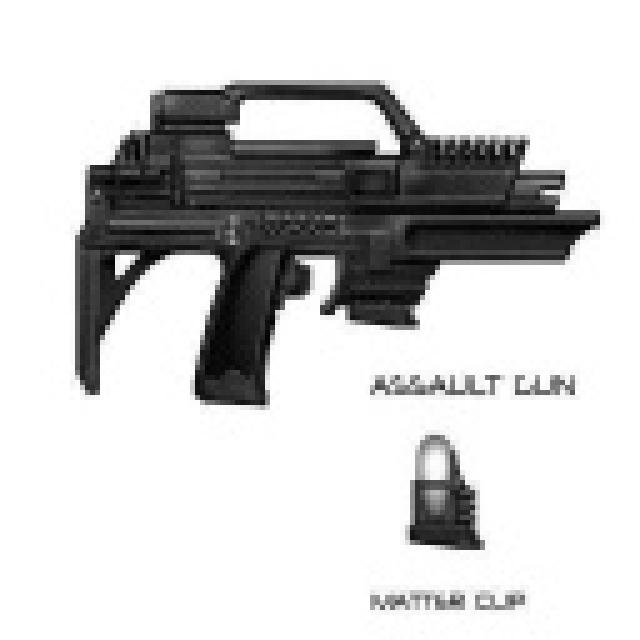Rifle: (0, 0, 615, 441)
